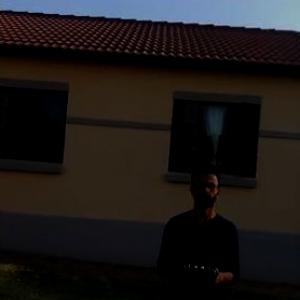follow: (152, 160, 245, 299)
